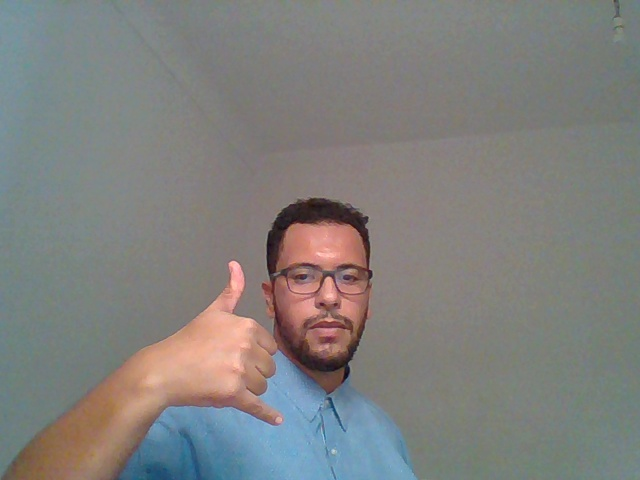callme: (101, 209, 288, 474)
